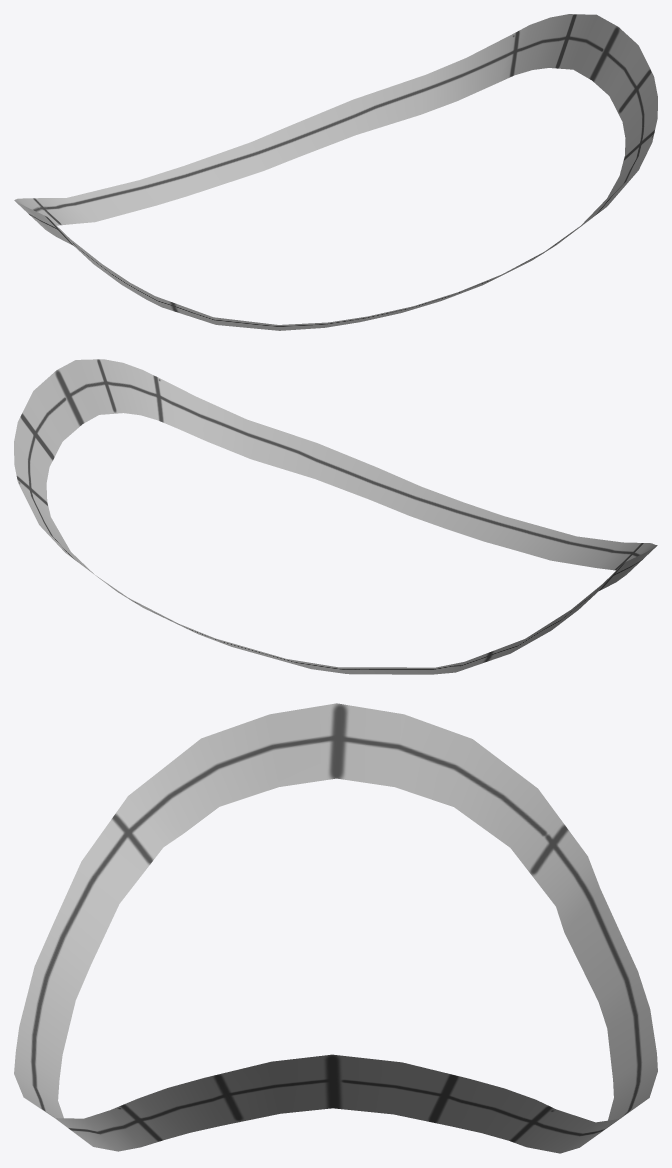
The picture shows the model from 3 angles, top to bottom: view 1: azimuth 30°, elevation 25°; view 2: azimuth 150°, elevation 25°; view 3: azimuth 270°, elevation 25°; orthographic projection. The views are drawn at different scales.
Parts seen in each view (by area): view 1: 球体.011; view 2: 球体.011; view 3: 球体.011.
Part boxes in pixels (x1=…): 球体.011: x1=14, y1=14, x2=657, y2=330; 球体.011: x1=14, y1=359, x2=657, y2=674; 球体.011: x1=14, y1=703, x2=657, y2=1153.
Size of the model in its own units: 75.78 by 19.1 by 47.65.
